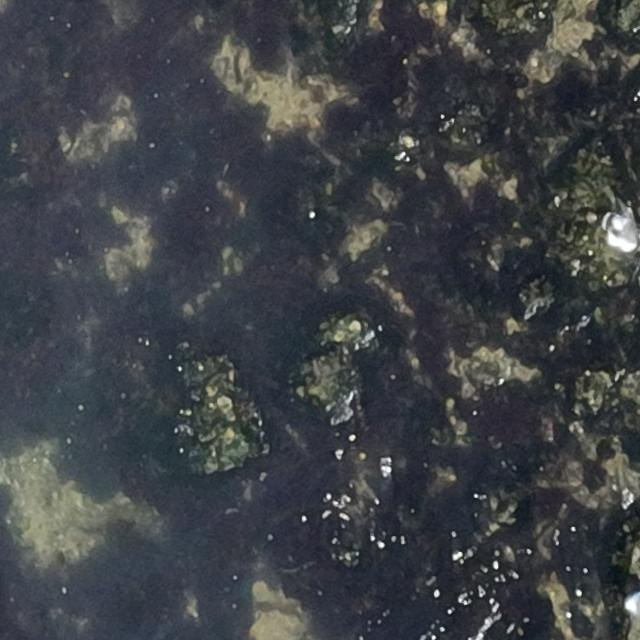umineko: (606, 210, 640, 256)
